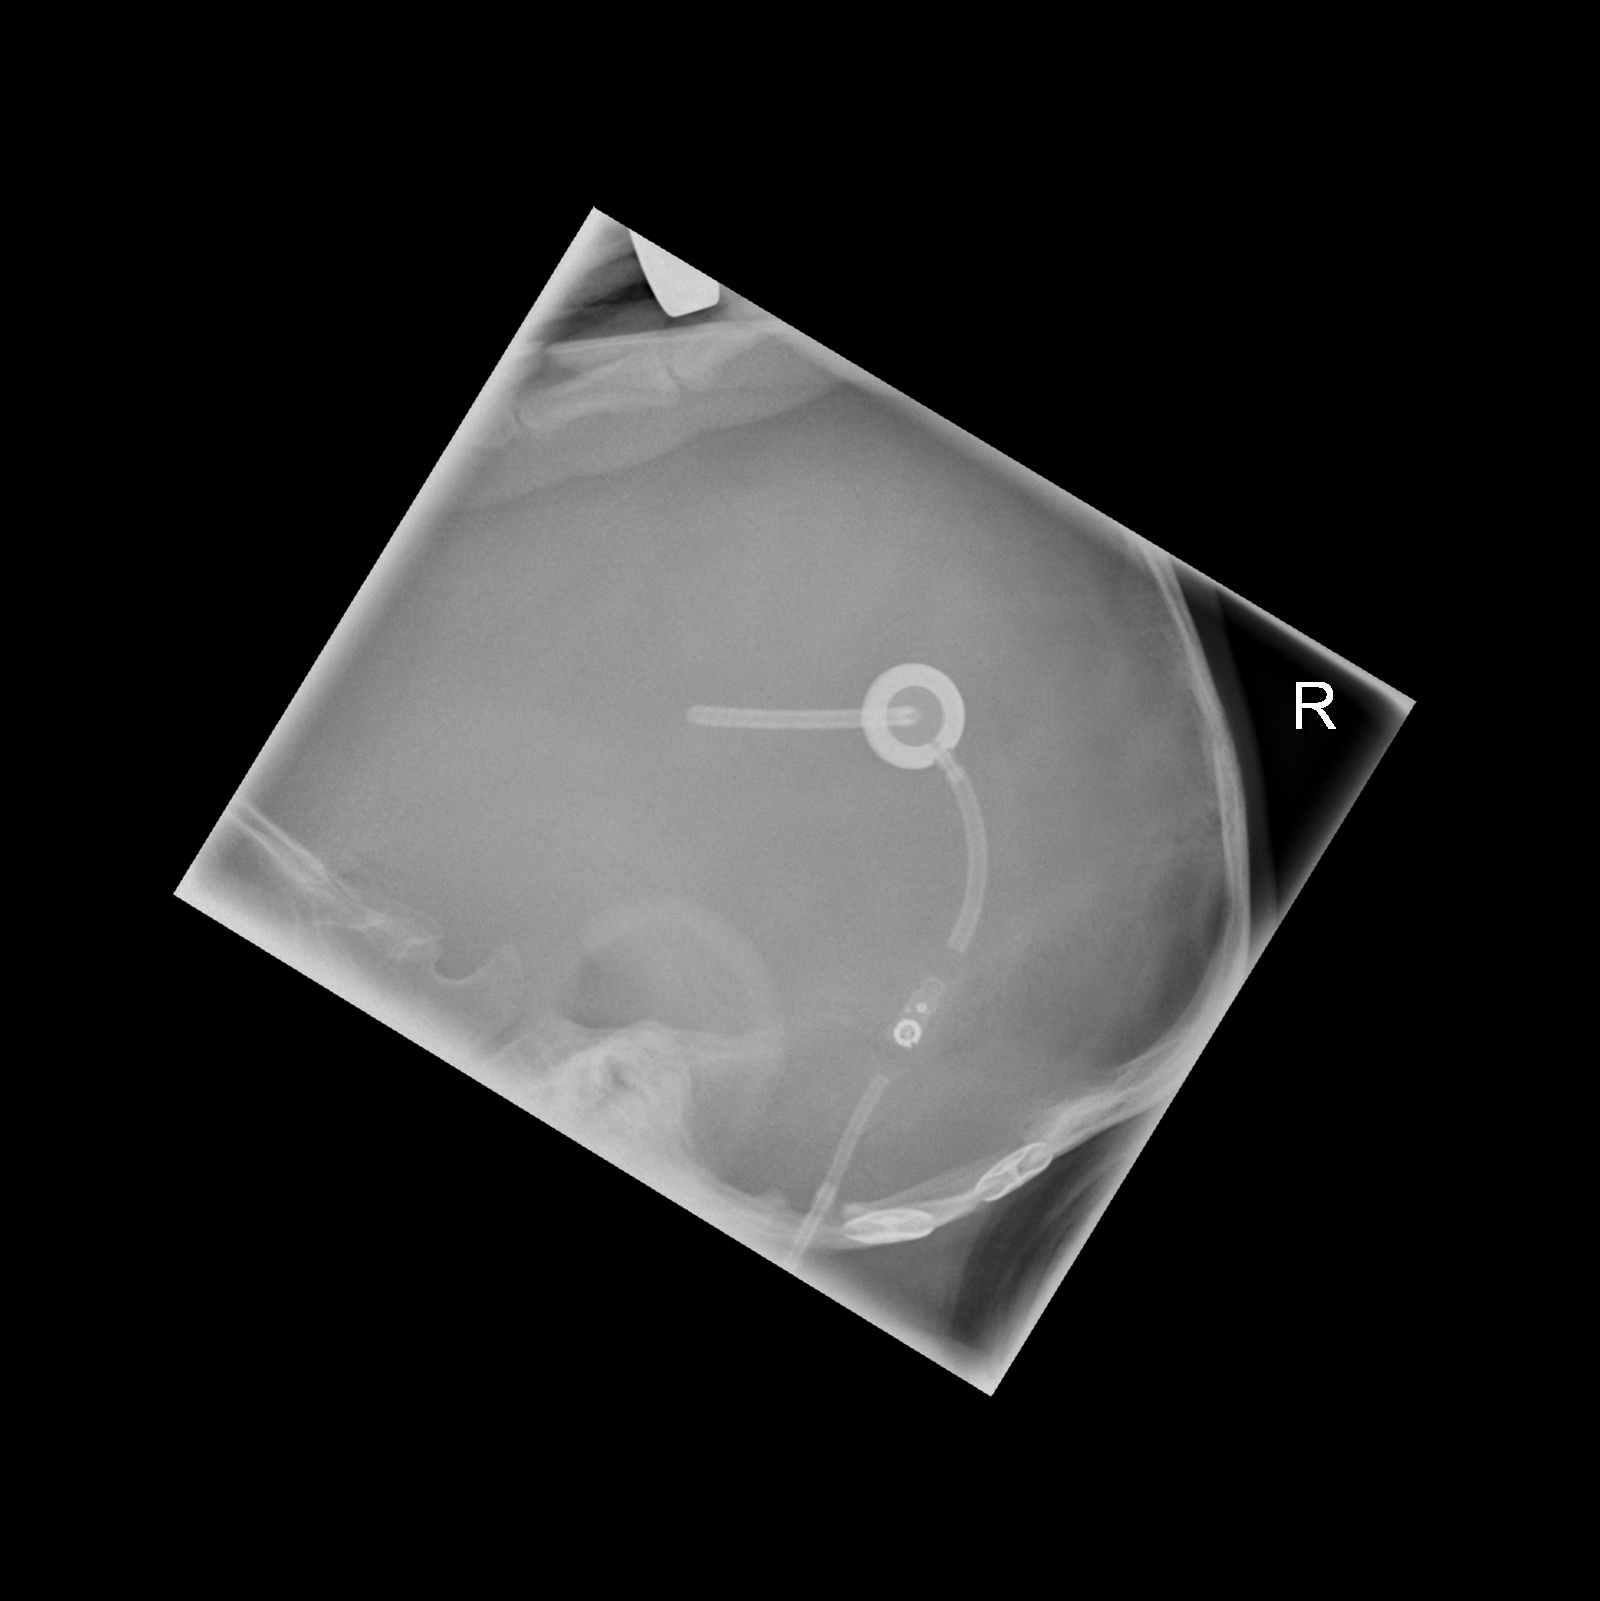Codman Hakim: (882, 965, 955, 1063)
